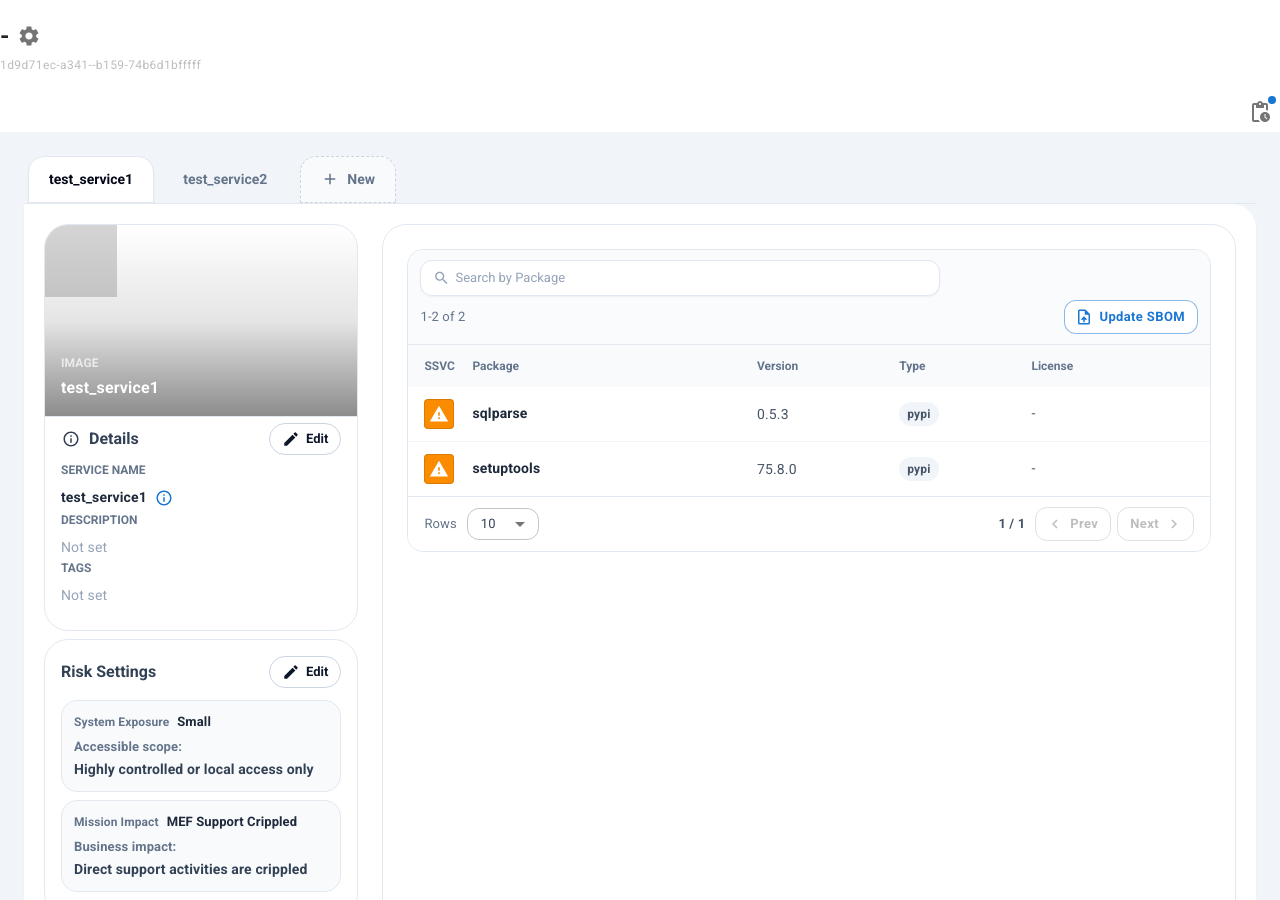
Test: StatusPage › renders SBOM registration state › opens the upload dialog with warning text when the SBOM update button is clicked
What coordinates should you click on to do the following:
click the button "Update SBOM"
I would click on:
 (1131, 317)
Its box is [1064, 300, 1198, 334].
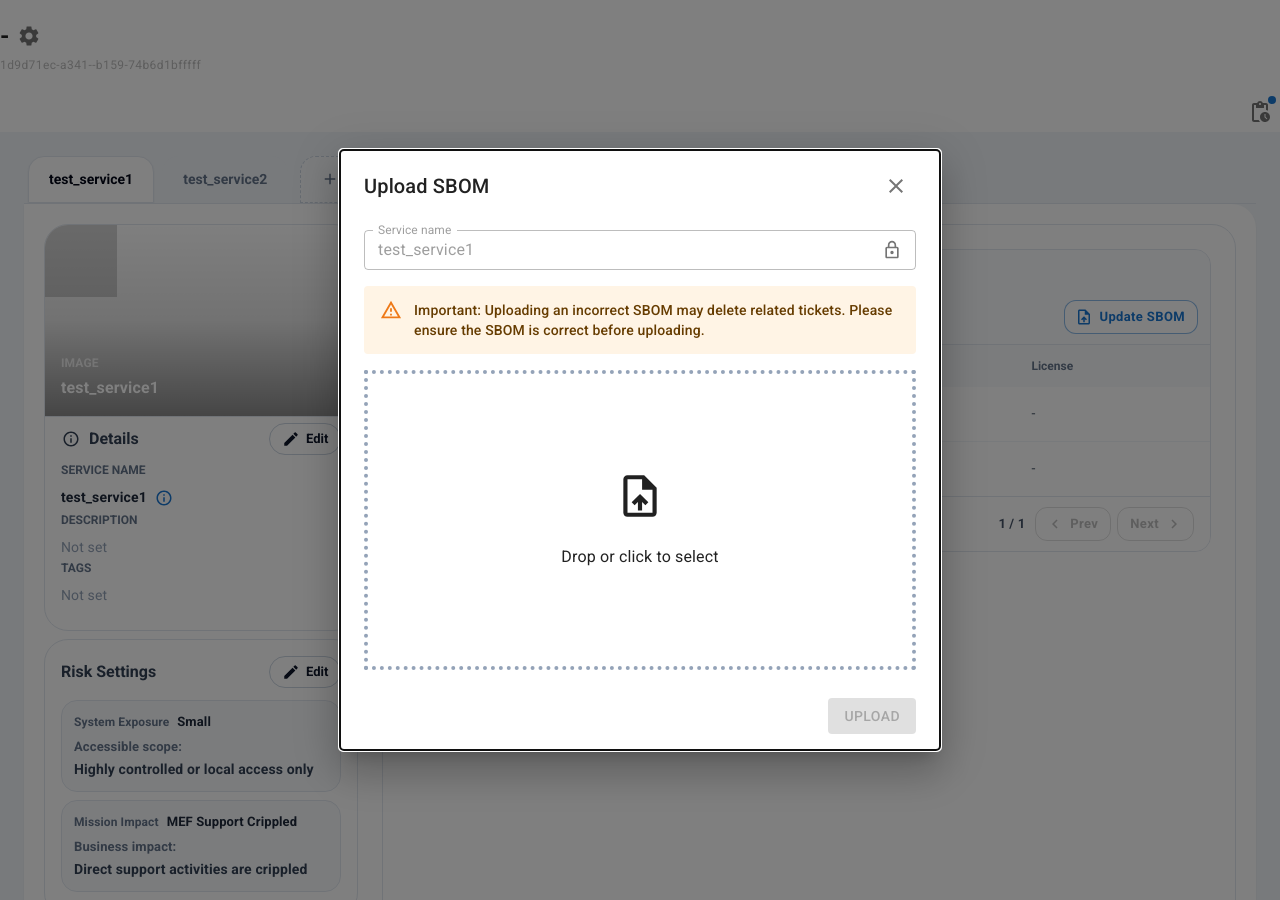
Expected: the dialog is shown, [340, 150, 940, 750]
Expected: the heading "Upload SBOM" is shown, [364, 174, 490, 198]
Expected: the text "Important: Uploading an incorrect SBOM may delete related tickets. Please ensure the SBOM is correct before uploading." is shown, [414, 302, 892, 338]
